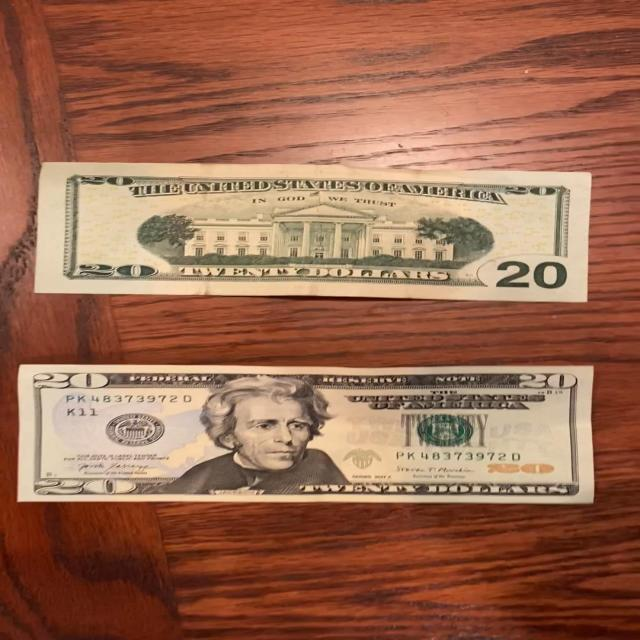20-Back: (29, 156, 602, 308)
20-Front: (8, 359, 610, 512)
